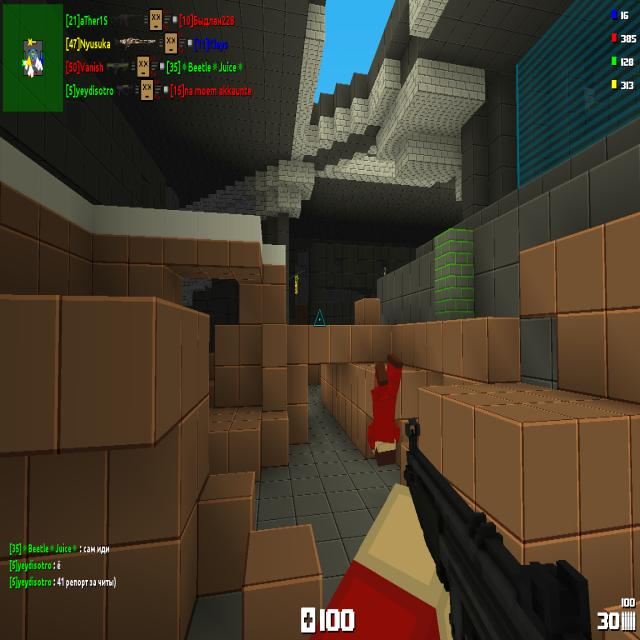enemy: (294, 275, 298, 294), (384, 266, 385, 275)
